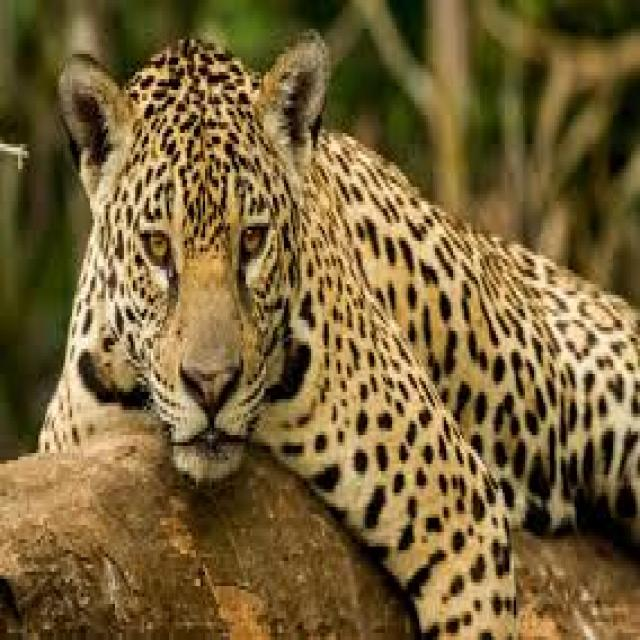Jaguar: (47, 36, 640, 636)
